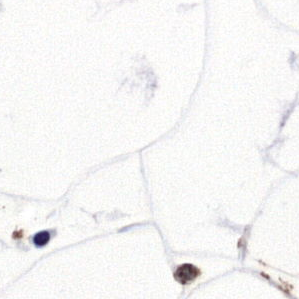Lymphocyte: (172, 262, 201, 286)
